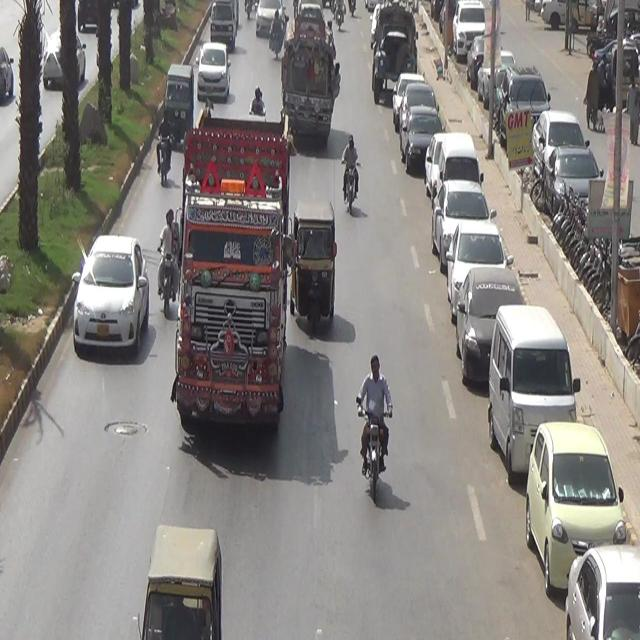car: (514, 413, 629, 592), (481, 297, 582, 479), (72, 228, 150, 370), (546, 540, 640, 640), (452, 276, 533, 384), (443, 220, 506, 314), (422, 183, 487, 266), (398, 105, 456, 177), (424, 134, 476, 213), (198, 34, 228, 98), (393, 75, 429, 122), (208, 0, 239, 45)
motorbike: (356, 346, 393, 508), (156, 210, 186, 322), (336, 127, 362, 214), (156, 106, 174, 180), (268, 4, 283, 57)
truck: (368, 0, 420, 109)
